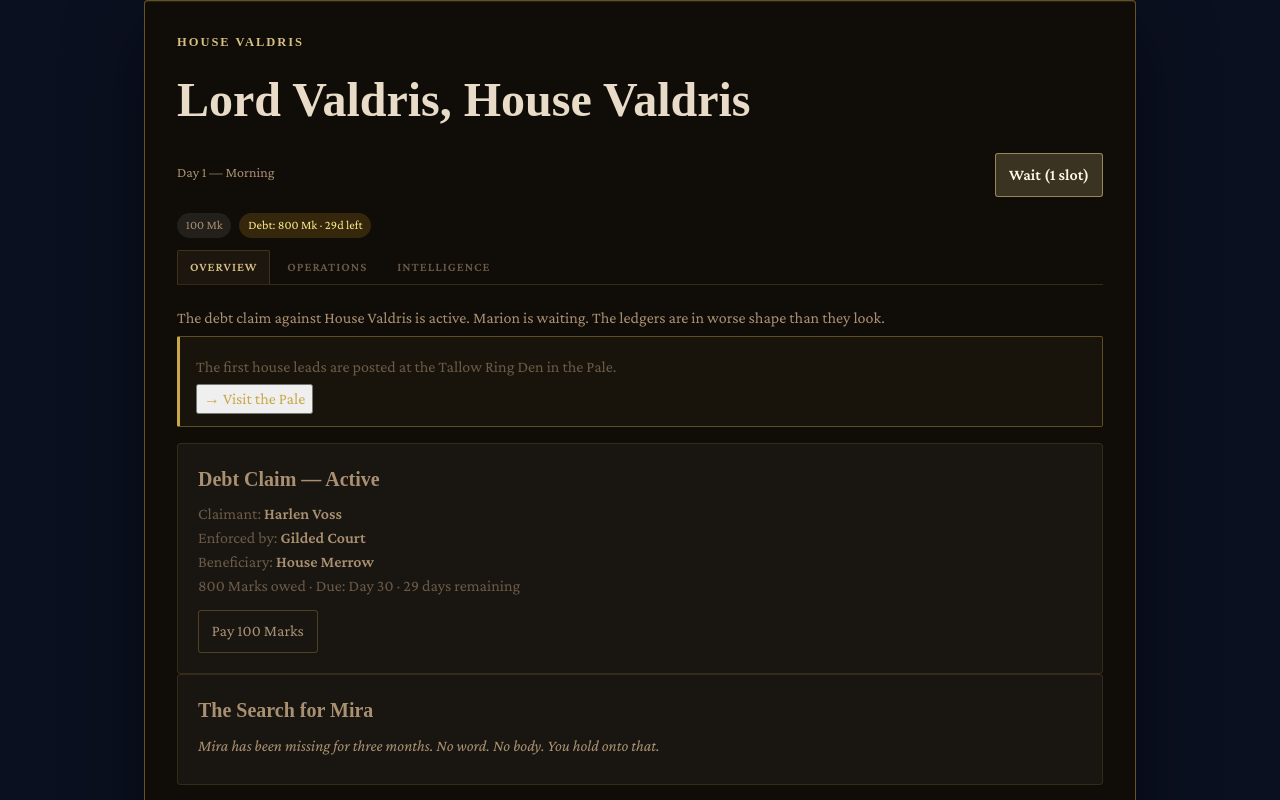
Test case: DashboardScreen › surfaces an economy brief with reserves, pressure, and next levers in operations
Click the tab "Operations" at [327, 267], box [274, 250, 380, 284]
(page scrolled)
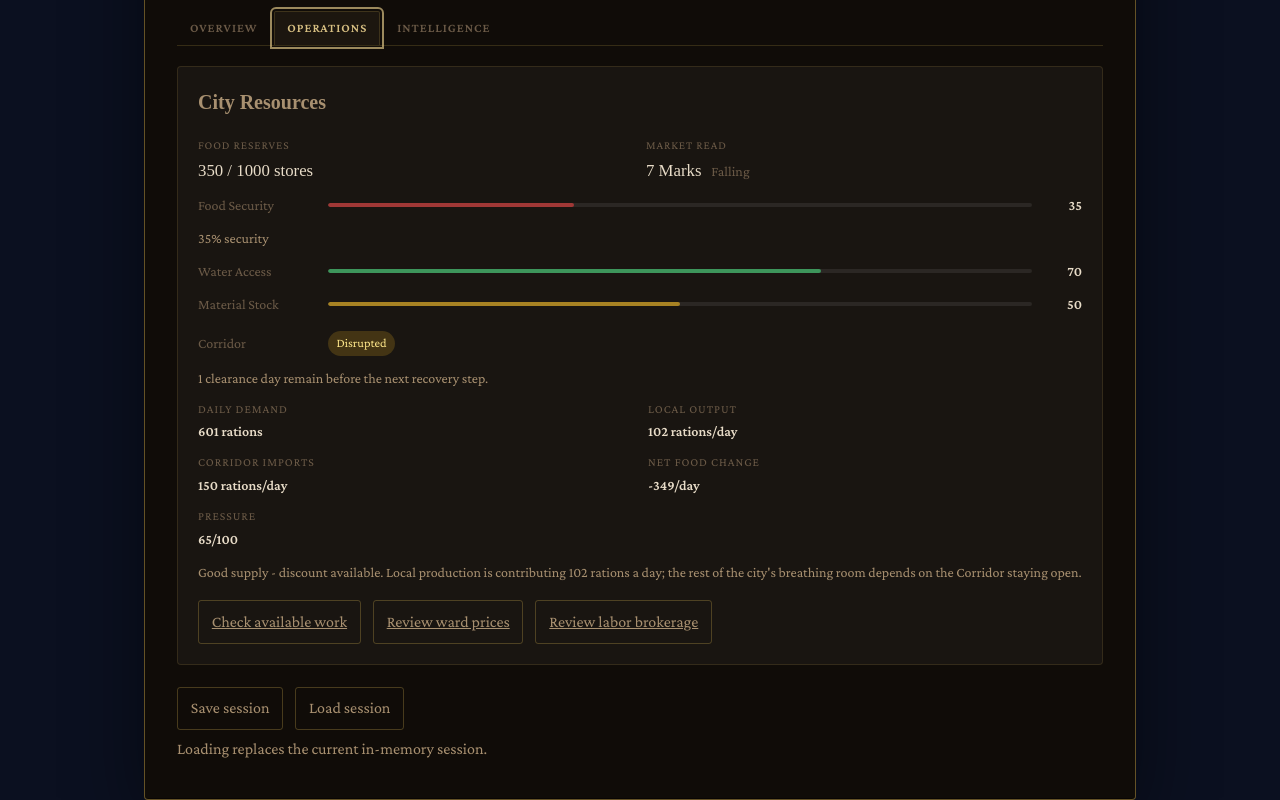
Check: the heading "City Resources" is shown, box [198, 91, 326, 113]
Check: the text "350 / 1000 stores" is shown, box [198, 160, 313, 180]
Check: the text "35% security" is shown, box [198, 230, 269, 246]
